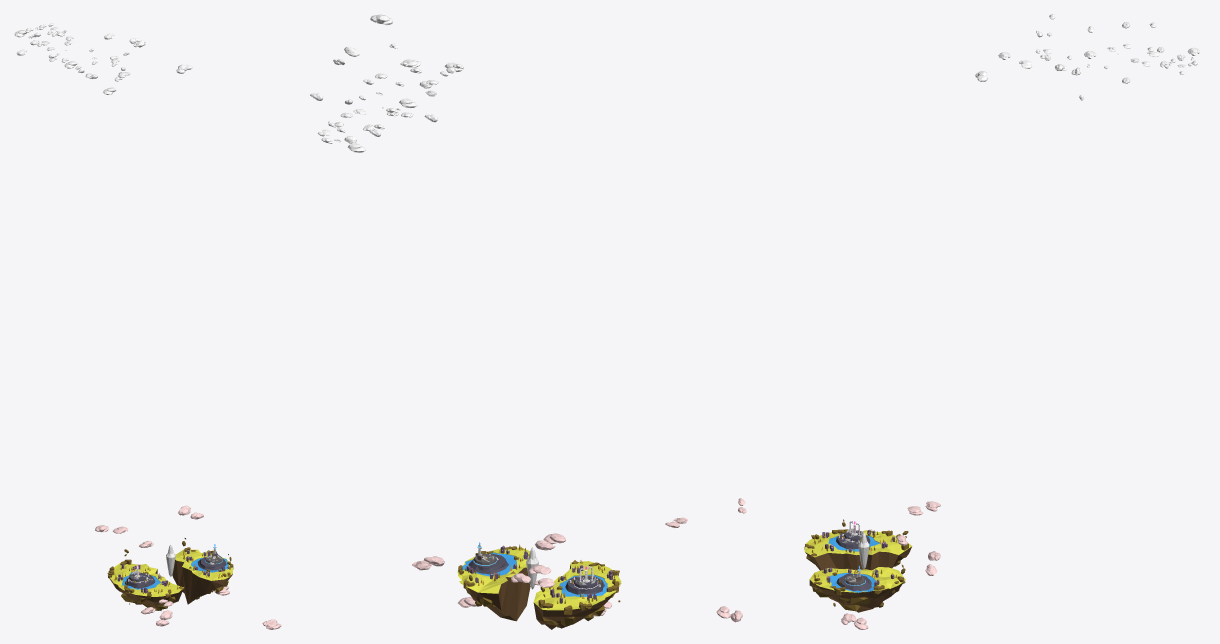
File: SceneGlobal_.glb
3 renders of one model, left to right at view 1: azimuth 30°, elevation 25°; view 2: azimuth 150°, elevation 25°; view 3: azimuth 270°, elevation 25°, orthographic. The views are drawn at different scales.
Visible parts, largest first — view 1: Cylinder.029, Cylinder.087; view 2: Cylinder.029, Cylinder.087; view 3: Cylinder.087, Cylinder.029.
Boxes of the visible parts, left/top/right/bottom form: Cylinder.029: left=172, top=549, right=232, bottom=604; Cylinder.087: left=109, top=562, right=183, bottom=610; Cylinder.029: left=457, top=547, right=530, bottom=621; Cylinder.087: left=533, top=561, right=621, bottom=629; Cylinder.087: left=804, top=530, right=912, bottom=570; Cylinder.029: left=809, top=567, right=905, bottom=612.
Size of the model in its own units: 141 by 488 by 376.
